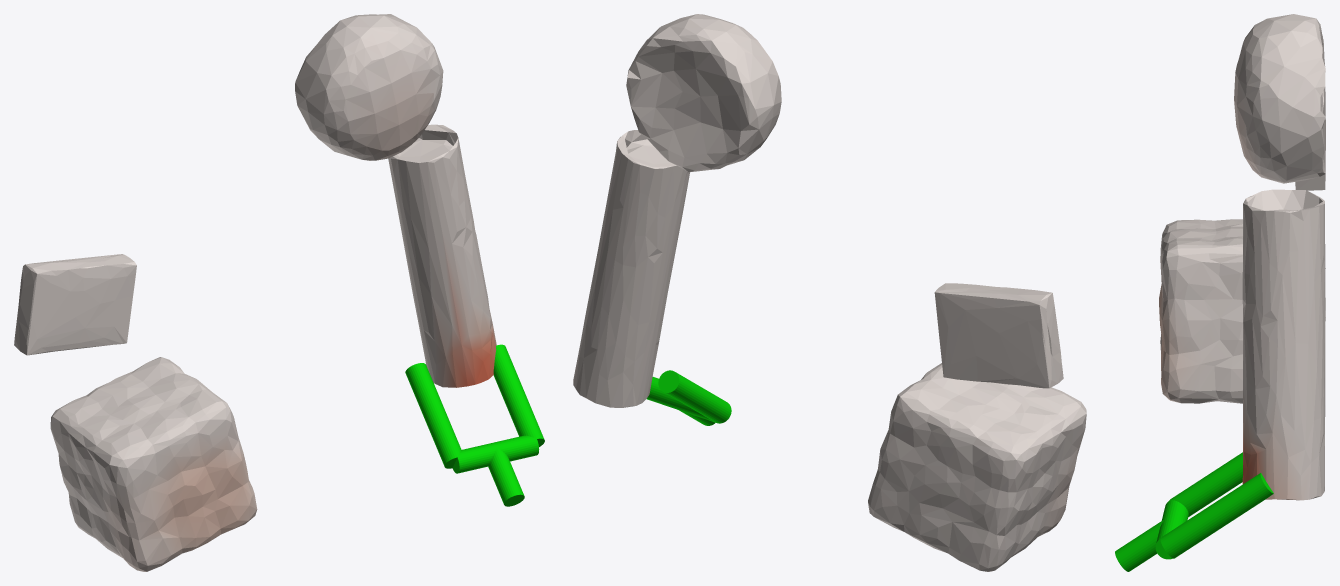
File: round_000_trial_001.obj
3 views of the same model, side by side, from view 1: azimuth 30°, elevation 25°; view 2: azimuth 150°, elevation 25°; view 3: azimuth 270°, elevation 25° (orthographic). The views are drawn at different scales.
Visible parts, largest first — view 1: geometry_0, geometry_1; view 2: geometry_0, geometry_1; view 3: geometry_0, geometry_1.
Part boxes in pixels (x1,y1,x2,y2): geometry_0: [14, 14, 496, 571]; geometry_1: [405, 344, 544, 506]; geometry_0: [573, 14, 1086, 571]; geometry_1: [647, 370, 731, 425]; geometry_0: [1159, 14, 1325, 500]; geometry_1: [1115, 452, 1273, 571].
Size of the model in its own units: 0.2429 by 0.2244 by 0.0842.
